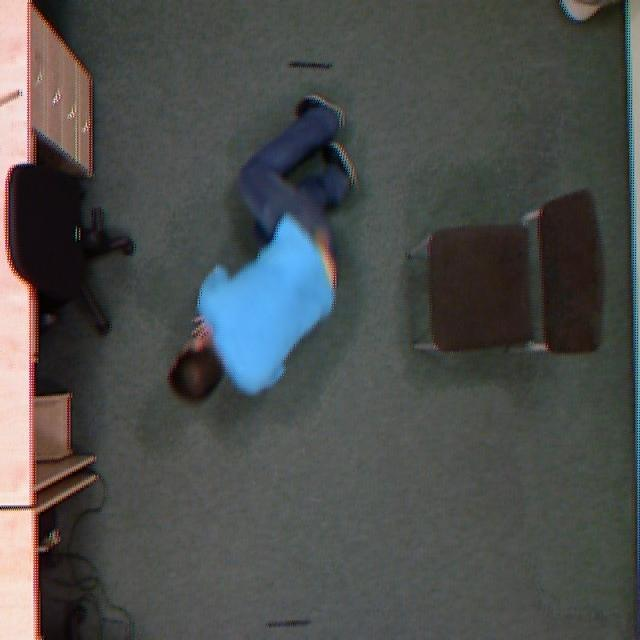fall detected: (147, 91, 366, 417)
